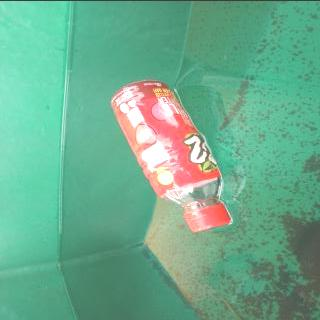bottle: (109, 78, 233, 232)
